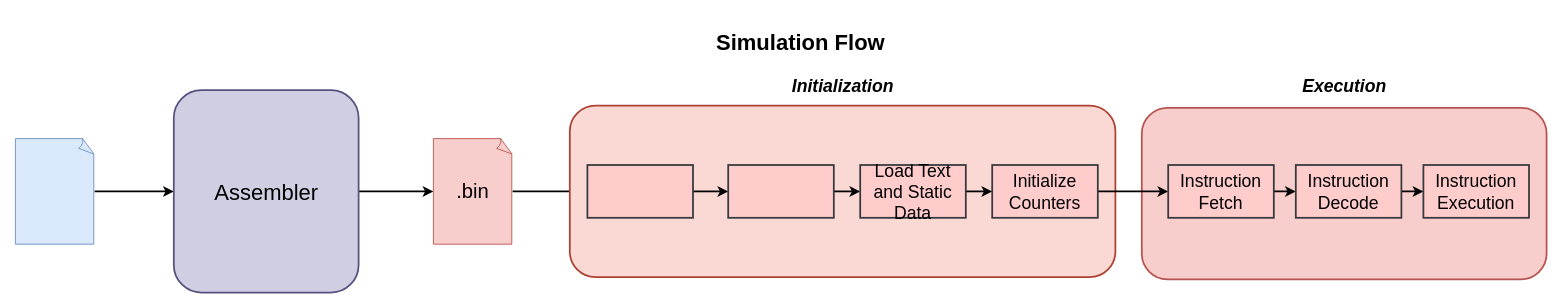
Some shapes in this 1563 by 308 pixel diagram are drawn without their labels. Each missing label, with the box of its shape:
.asm: (15, 138, 95, 244)
Initialize Memory Bar: (727, 164, 834, 218)
Reset Registers: (586, 164, 693, 218)
